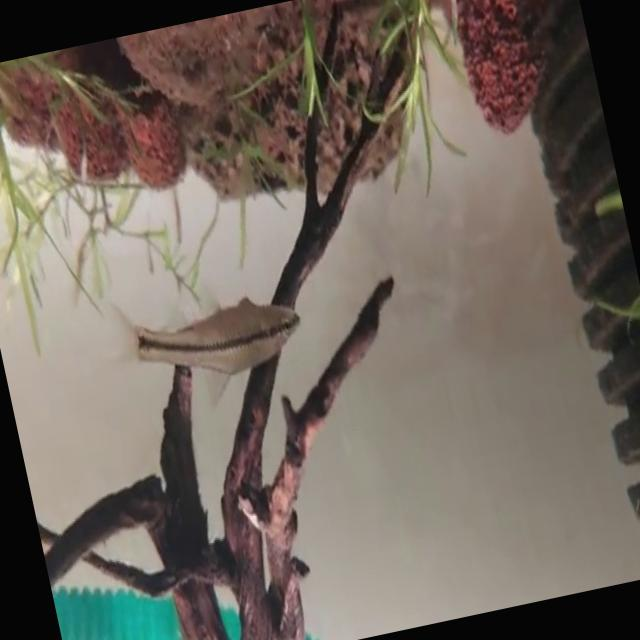Cakil Baligi: (95, 263, 310, 421)
